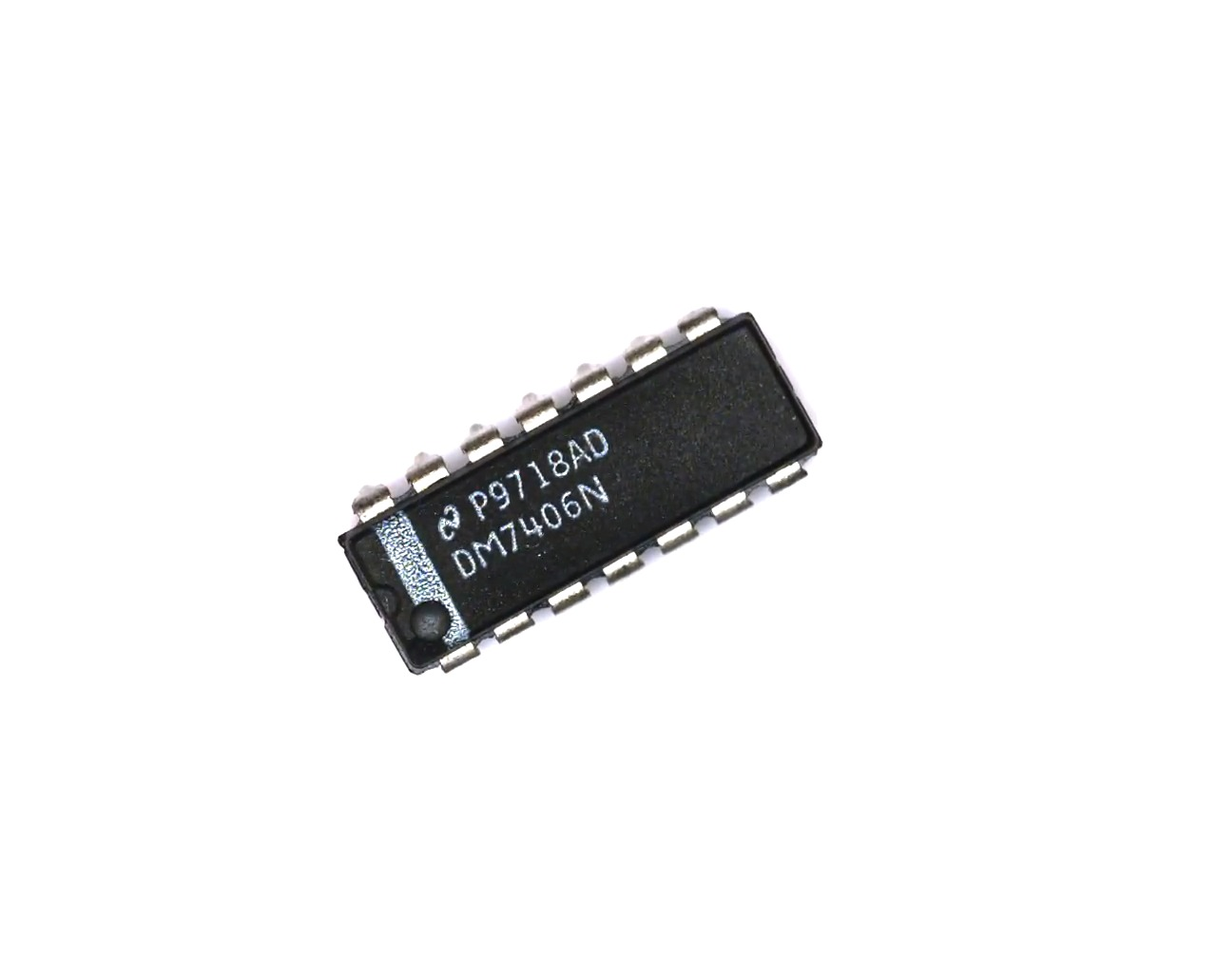IC: (308, 265, 853, 716)
notch: (363, 576, 405, 627)
